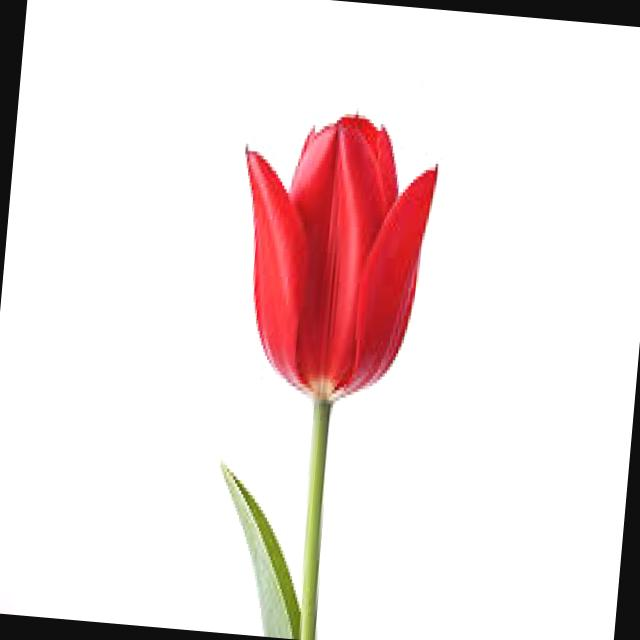tulip: (198, 88, 470, 478)
